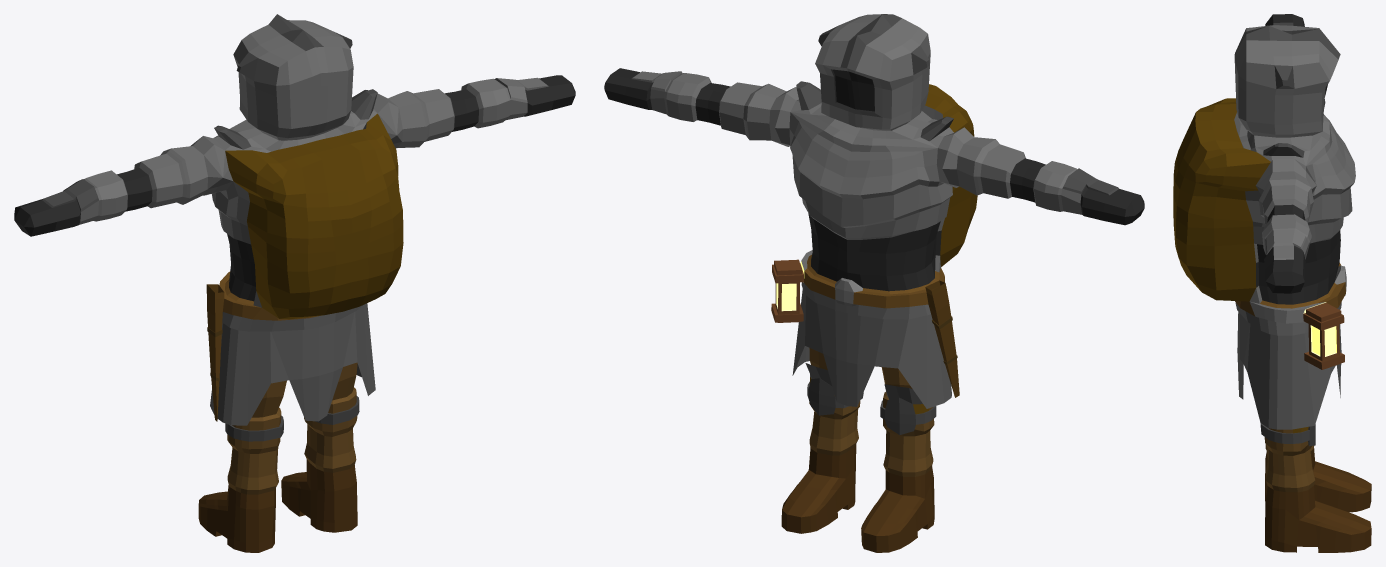
Rendered from cave size test.fbx.
3 renders of one model, left to right at view 1: azimuth 30°, elevation 25°; view 2: azimuth 150°, elevation 25°; view 3: azimuth 270°, elevation 25°, orthographic. The views are drawn at different scales.
Parts seen in each view (by area): view 1: Knight; view 2: Knight; view 3: Knight.
Boxes of the visible parts, x1,y1,x2,y2 form: Knight: [14, 14, 575, 552]; Knight: [604, 14, 1144, 552]; Knight: [1173, 14, 1371, 552].
Size of what is drawn, in the model's own units: 100 by 88.35 by 31.89.
